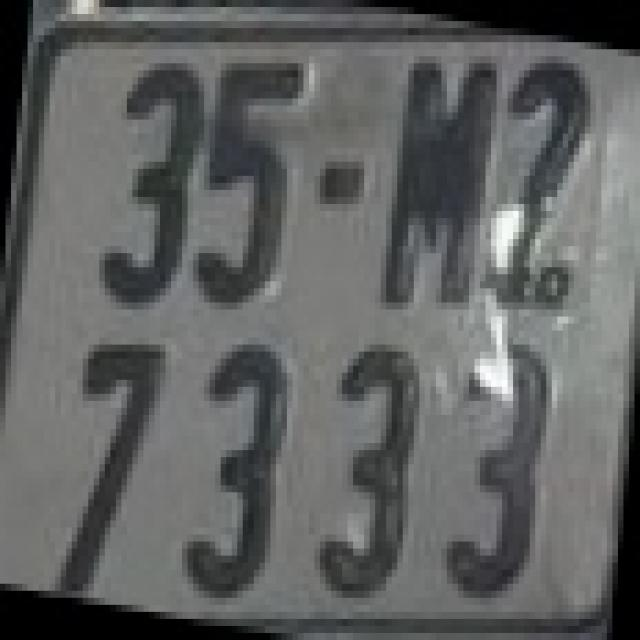2: (496, 56, 596, 310)
3: (441, 330, 552, 598), (314, 338, 425, 598), (182, 338, 292, 598), (94, 56, 198, 302)
5: (198, 49, 304, 310)
7: (55, 330, 166, 590)
M: (378, 49, 505, 310)
